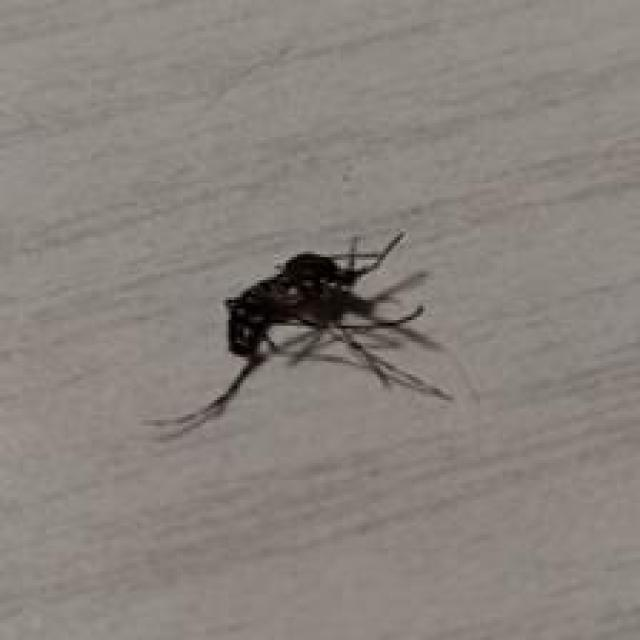Aedes albopictus: (146, 227, 460, 442)
